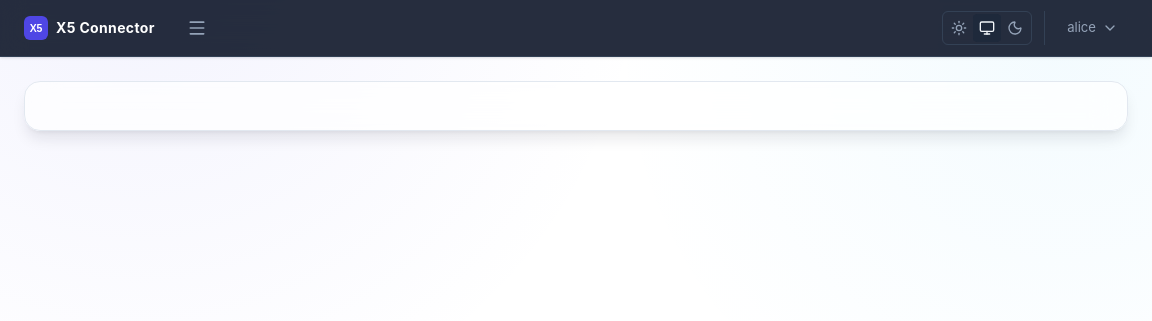
Scenario: App shell › tucks the secondary nav inside the collapsed user menu until opened
The image size is (1152, 321).
Click the button "alice" at (1093, 28), box left=1057, top=12, right=1128, bottom=44
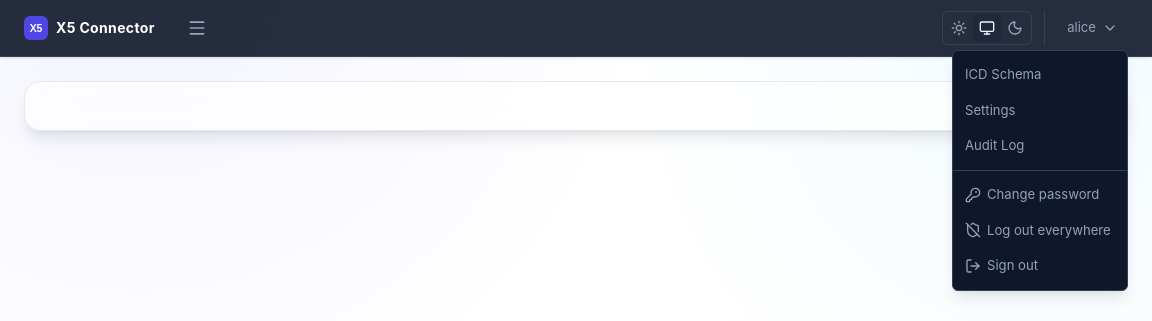
Result: the navigation bar named "Secondary" is shown at left=965, top=66, right=1041, bottom=153
Result: the navigation bar named "Secondary" shows "ICD Schema" at left=953, top=57, right=1127, bottom=92
Result: the navigation bar named "Secondary" shows "Settings" at left=953, top=92, right=1127, bottom=128
